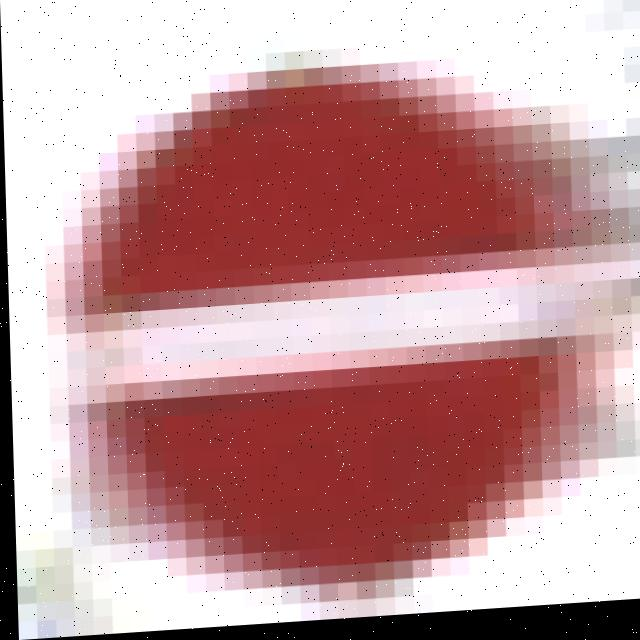road_rough: (62, 26, 621, 626)
